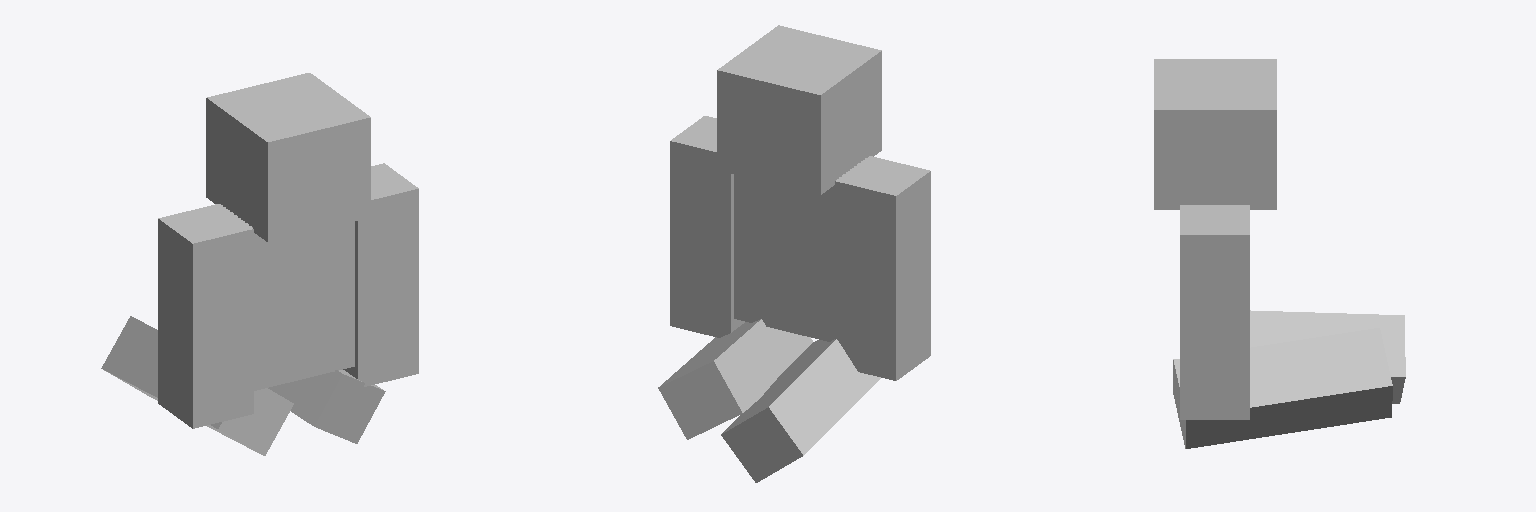
Rendered from ShakeEarth.obj.
3 views of the same model, side by side, from view 1: azimuth 30°, elevation 25°; view 2: azimuth 150°, elevation 25°; view 3: azimuth 270°, elevation 25° (orthographic).
Visible parts, largest first — view 1: Mesh.001_Mesh.004_Box3, Mesh_Mesh.005_Box2, Mesh.004_Mesh.003_Box1, Mesh.005_Mesh.002_Duplicate, Mesh.002_Mesh_Duplicate2, Mesh.003_Mesh.001_Duplicate1; view 2: Mesh.001_Mesh.004_Box3, Mesh_Mesh.005_Box2, Mesh.004_Mesh.003_Box1, Mesh.005_Mesh.002_Duplicate, Mesh.002_Mesh_Duplicate2, Mesh.003_Mesh.001_Duplicate1; view 3: Mesh.001_Mesh.004_Box3, Mesh.005_Mesh.002_Duplicate, Mesh.003_Mesh.001_Duplicate1, Mesh.002_Mesh_Duplicate2.
Boxes of the visible parts, box(x1,y1,x2,y2) form: Mesh.001_Mesh.004_Box3: box(206, 73, 370, 241); Mesh_Mesh.005_Box2: box(158, 204, 253, 428); Mesh.004_Mesh.003_Box1: box(222, 205, 354, 390); Mesh.005_Mesh.002_Duplicate: box(343, 163, 418, 386); Mesh.002_Mesh_Duplicate2: box(101, 316, 293, 455); Mesh.003_Mesh.001_Duplicate1: box(268, 370, 385, 443); Mesh.001_Mesh.004_Box3: box(717, 25, 881, 194); Mesh_Mesh.005_Box2: box(835, 156, 930, 380); Mesh.004_Mesh.003_Box1: box(734, 158, 865, 341); Mesh.005_Mesh.002_Duplicate: box(670, 116, 744, 337); Mesh.002_Mesh_Duplicate2: box(721, 339, 880, 482); Mesh.003_Mesh.001_Duplicate1: box(658, 319, 812, 439); Mesh.001_Mesh.004_Box3: box(1154, 59, 1276, 209); Mesh.005_Mesh.002_Duplicate: box(1180, 205, 1249, 419); Mesh.003_Mesh.001_Duplicate1: box(1173, 328, 1392, 448); Mesh.002_Mesh_Duplicate2: box(1250, 310, 1405, 403).
Bounding box in the file's own units: 1.74 × 2.53 × 1.68.